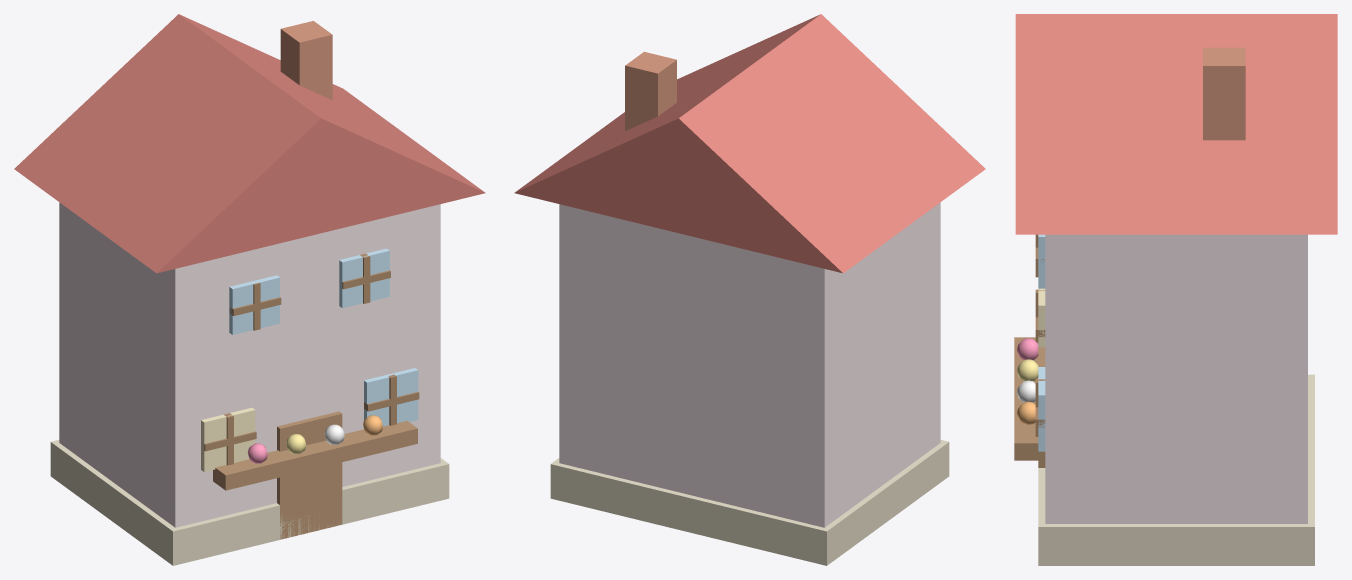
The model's file is rumahw7.glb.
3 renders of one model, left to right at view 1: azimuth 30°, elevation 25°; view 2: azimuth 150°, elevation 25°; view 3: azimuth 270°, elevation 25°, orthographic. The views are drawn at different scales.
Visible parts, largest first — view 1: rumahw7; view 2: rumahw7; view 3: rumahw7.
Boxes of the visible parts, bbox=[...] form: rumahw7: bbox=[14, 14, 485, 565]; rumahw7: bbox=[514, 14, 985, 565]; rumahw7: bbox=[1014, 14, 1337, 565].
Bounding box in the file's own units: 1.8 × 2.2 × 1.36.
